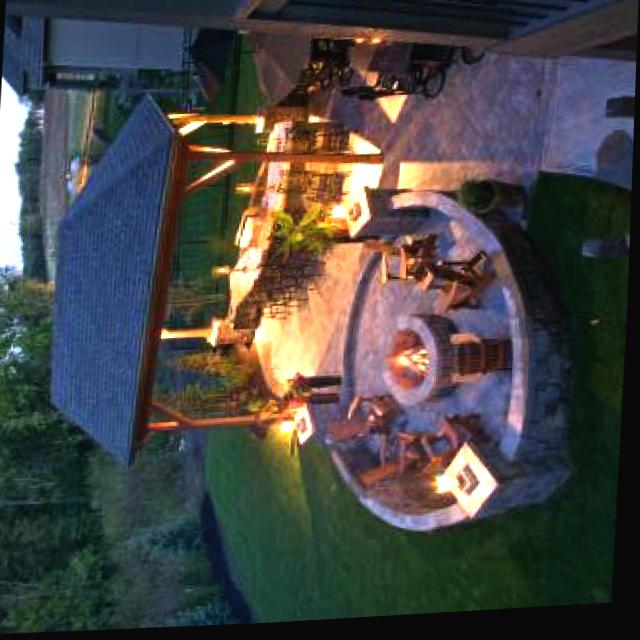Fire: (391, 342, 443, 386)
